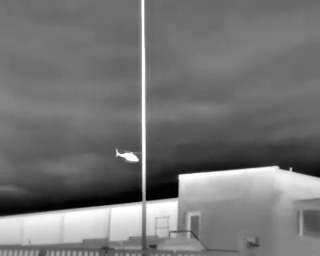HELICOPTER: (113, 146, 142, 166)
